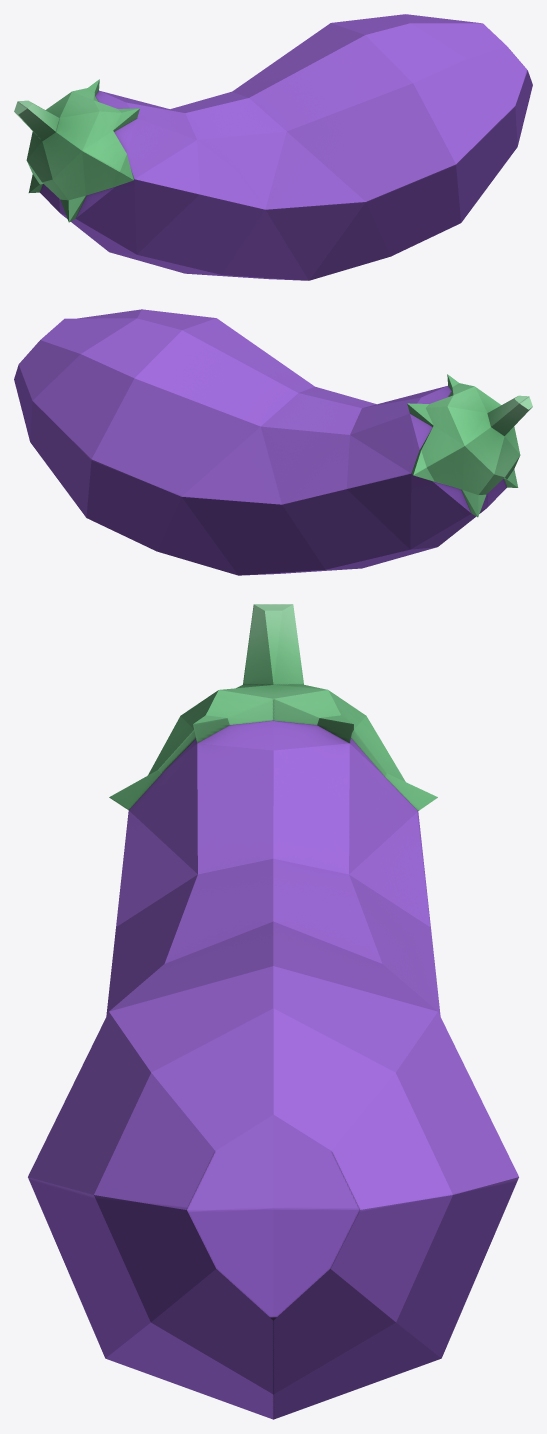
Rendered from Eggplant.gltf.
3 renders of one model, top to bottom at view 1: azimuth 30°, elevation 25°; view 2: azimuth 150°, elevation 25°; view 3: azimuth 270°, elevation 25°, orthographic. The views are drawn at different scales.
Visible parts, largest first — view 1: node-0; view 2: node-0; view 3: node-0.
Boxes of the visible parts, x1=… form: node-0: x1=14, y1=14, x2=532, y2=280; node-0: x1=14, y1=309, x2=532, y2=575; node-0: x1=28, y1=604, x2=518, y2=1419.
Size of the model in its own units: 16.73 by 7.34 by 6.97.
1 material, 1 textured.
